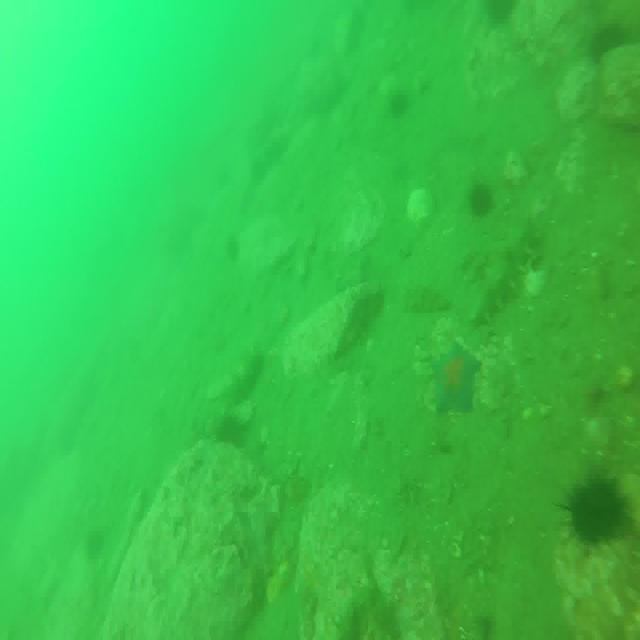echinus: (561, 469, 631, 542), (593, 18, 627, 64), (470, 179, 493, 220), (216, 410, 238, 447), (389, 90, 410, 120), (84, 532, 100, 559)
holothurian: (472, 211, 540, 323), (398, 280, 452, 310)
starfish: (427, 342, 481, 413)
